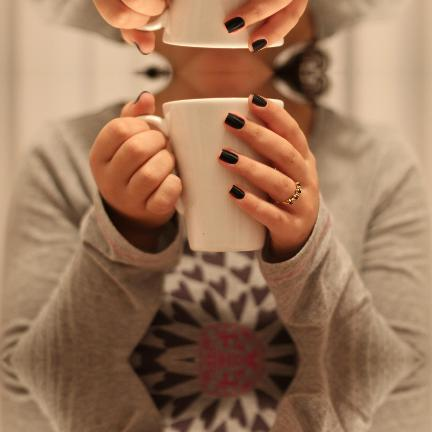Nail: (225, 112, 245, 128), (225, 16, 245, 32), (219, 148, 238, 164), (229, 185, 245, 199), (134, 90, 150, 104), (134, 40, 150, 54), (252, 93, 267, 106), (252, 38, 267, 51)
